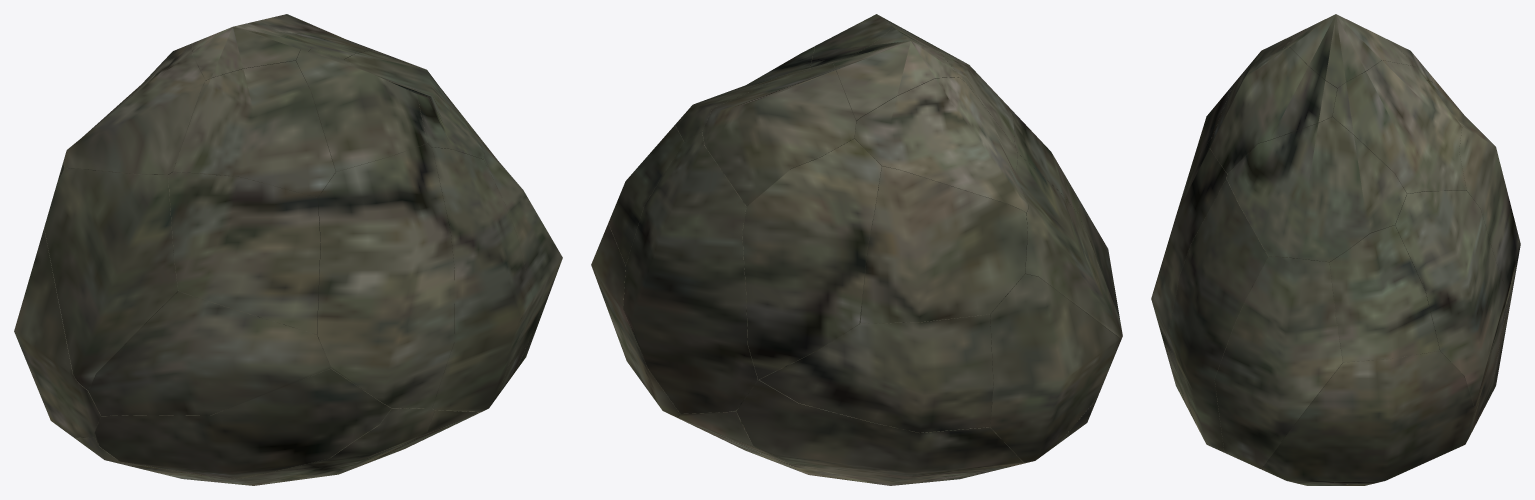
Rendered from boulder_broken.glb.
3 renders of one model, left to right at view 1: azimuth 30°, elevation 25°; view 2: azimuth 150°, elevation 25°; view 3: azimuth 270°, elevation 25°, orthographic. The views are drawn at different scales.
Parts seen in each view (by area): view 1: Sphere_cell.010, Sphere_cell.012, Sphere_cell.023, Sphere_cell.006, Sphere_cell.005, Sphere_cell.022, Sphere_cell.020, Sphere_cell.017, Sphere_cell.002, Sphere_cell.013, Sphere_cell, Sphere_cell.008 (+5 smaller); view 2: Sphere_cell.019, Sphere_cell.014, Sphere_cell.009, Sphere_cell.016, Sphere_cell.013, Sphere_cell.021, Sphere_cell.017, Sphere_cell.003, Sphere_cell.012, Sphere_cell.018, Sphere_cell.007, Sphere_cell.001 (+6 smaller); view 3: Sphere_cell.007, Sphere_cell, Sphere_cell.008, Sphere_cell.019, Sphere_cell.022, Sphere_cell.003, Sphere_cell.001, Sphere_cell.002, Sphere_cell.014, Sphere_cell.010, Sphere_cell.018, Sphere_cell.020 (+2 smaller).
Part boxes in pixels (<box>): Sphere_cell.010: <box>315,143,454,408</box>; Sphere_cell.012: <box>44,168,179,390</box>; Sphere_cell.023: <box>168,172,320,334</box>; Sphere_cell.006: <box>88,291,330,415</box>; Sphere_cell.005: <box>94,368,391,478</box>; Sphere_cell.022: <box>431,147,532,411</box>; Sphere_cell.020: <box>173,60,335,197</box>; Sphere_cell.017: <box>63,43,205,175</box>; Sphere_cell.002: <box>296,48,427,171</box>; Sphere_cell.013: <box>14,228,101,436</box>; Sphere_cell: <box>474,136,562,396</box>; Sphere_cell.008: <box>344,50,483,159</box>; Sphere_cell.019: <box>623,132,758,413</box>; Sphere_cell.014: <box>742,139,881,379</box>; Sphere_cell.009: <box>860,166,1027,323</box>; Sphere_cell.016: <box>759,314,993,432</box>; Sphere_cell.013: <box>990,274,1120,462</box>; Sphere_cell.021: <box>736,379,1026,485</box>; Sphere_cell.017: <box>854,77,1027,212</box>; Sphere_cell.003: <box>702,63,856,206</box>; Sphere_cell.012: <box>1016,153,1122,341</box>; Sphere_cell.018: <box>833,27,958,121</box>; Sphere_cell.007: <box>591,223,680,418</box>; Sphere_cell.001: <box>608,125,683,265</box>; Sphere_cell.007: <box>1261,351,1474,484</box>; Sphere_cell: <box>1214,256,1342,469</box>; Sphere_cell.008: <box>1227,117,1406,262</box>; Sphere_cell.019: <box>1395,191,1506,429</box>; Sphere_cell.022: <box>1169,179,1268,452</box>; Sphere_cell.003: <box>1332,60,1466,193</box>; Sphere_cell.001: <box>1329,225,1439,362</box>; Sphere_cell.002: <box>1210,47,1337,173</box>; Sphere_cell.014: <box>1427,80,1518,318</box>; Sphere_cell.010: <box>1151,135,1227,387</box>; Sphere_cell.018: <box>1283,14,1416,88</box>; Sphere_cell.020: <box>1211,32,1298,137</box>.
Bounding box in the file's own units: 3.47 × 2.92 × 2.48.
1 material, 1 textured.
